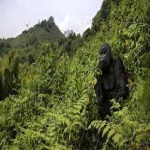Animal: (95, 42, 129, 122)
Forest: (2, 40, 147, 150)
